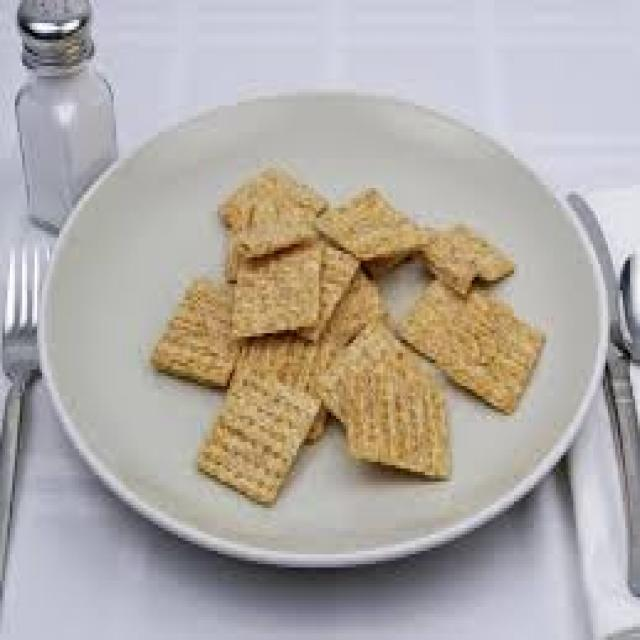Cracker: (336, 346, 450, 482), (195, 370, 319, 489)
